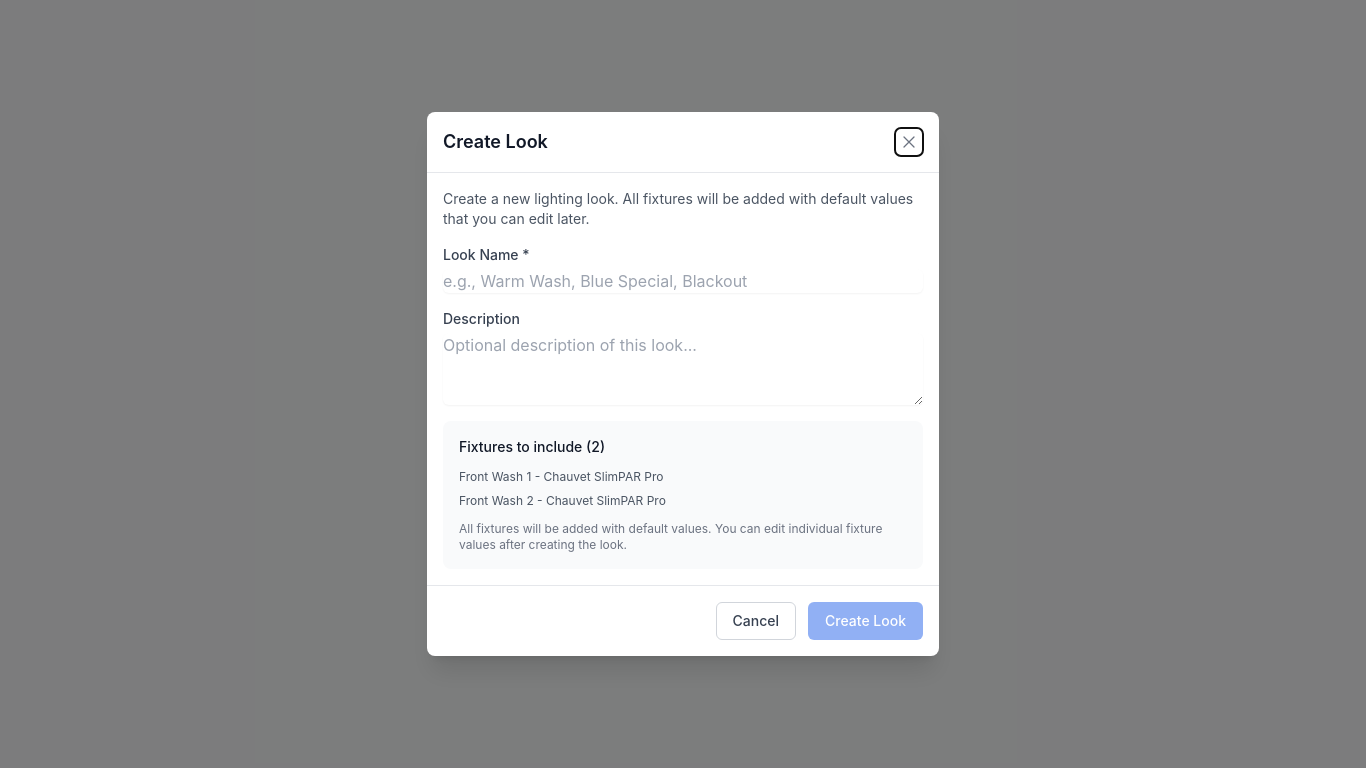
CreateLookModal › loading state › disables submit button while creating
Expected: the heading "Fixtures to include (2)" is shown, top-left (459, 438), bottom-right (605, 455)
In the field labelled "Look Name *": (683, 281) top-left (443, 269), bottom-right (923, 293), type "Test"
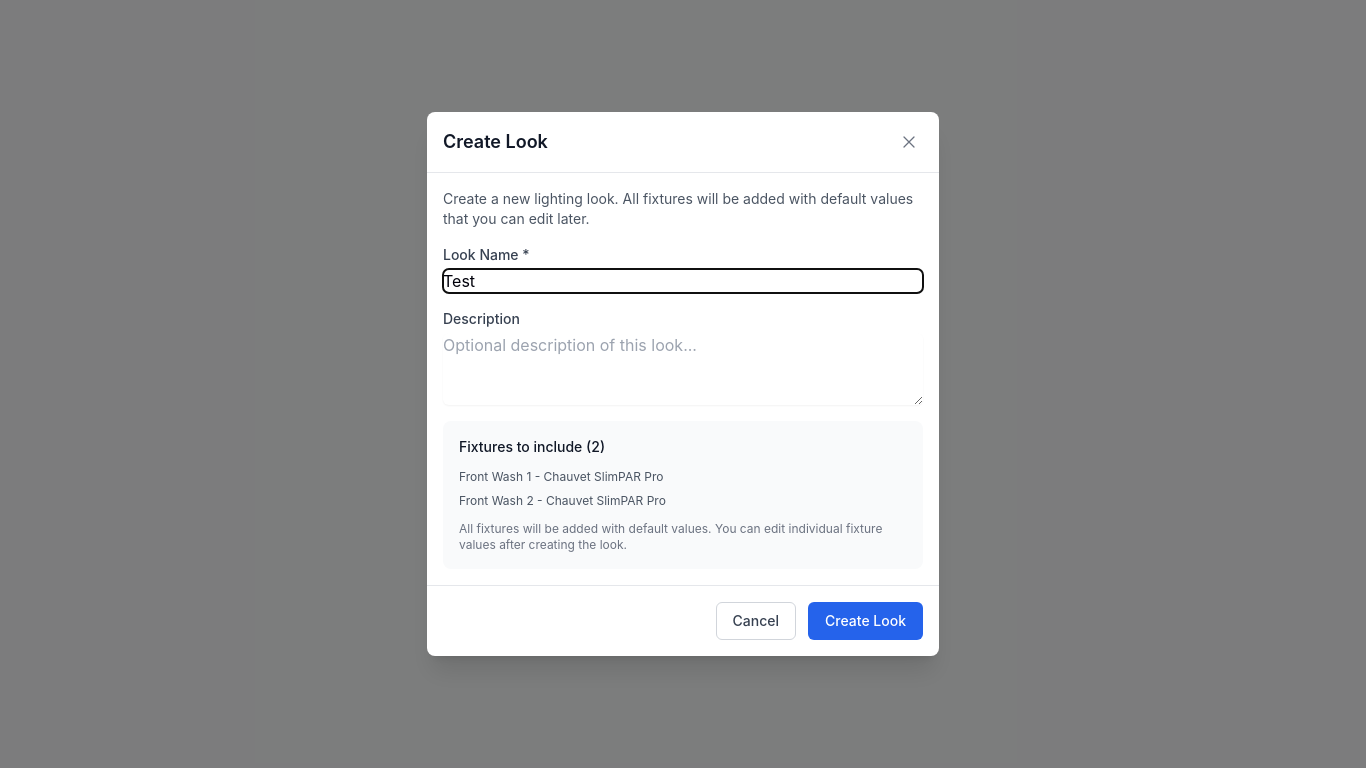
Click the button "Create Look": (866, 621) top-left (808, 602), bottom-right (923, 640)
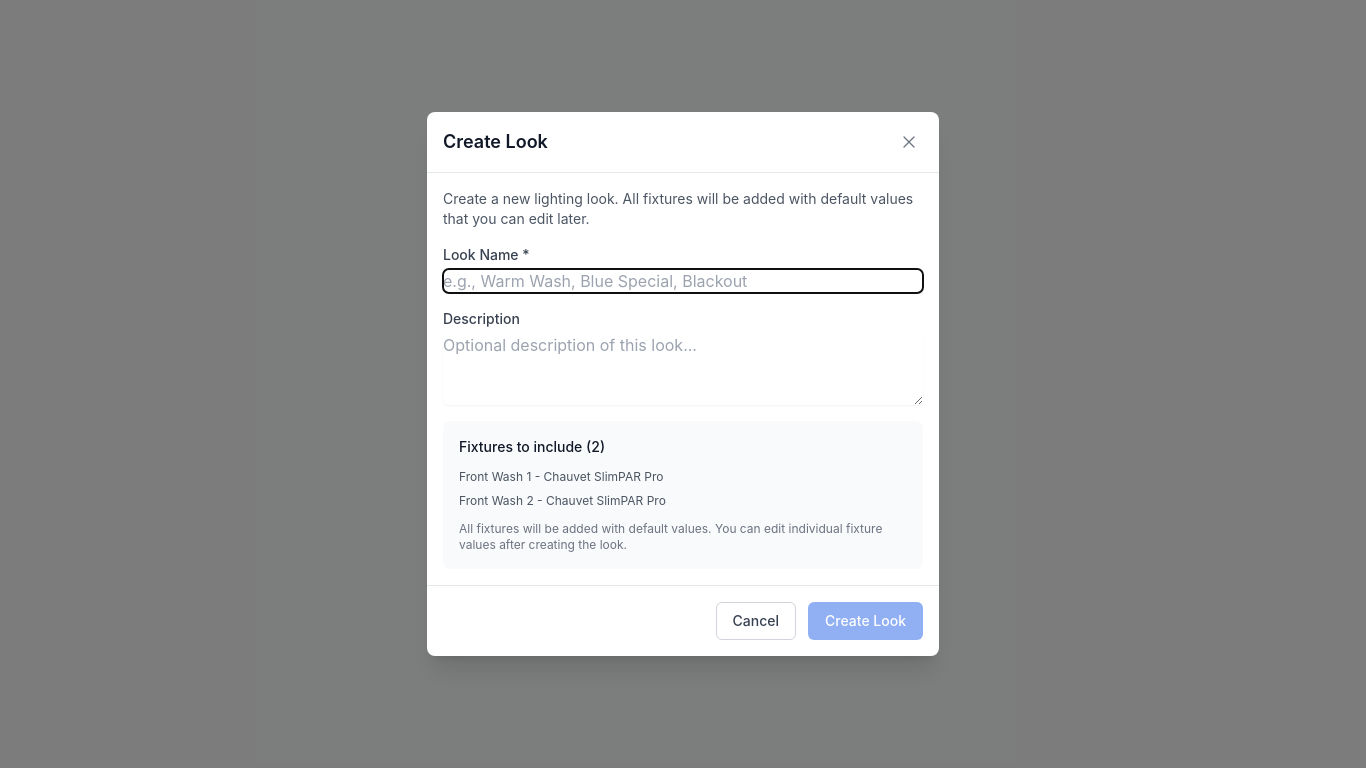
Expected: the button named "Creating..." is disabled, top-left (808, 602), bottom-right (923, 640)
